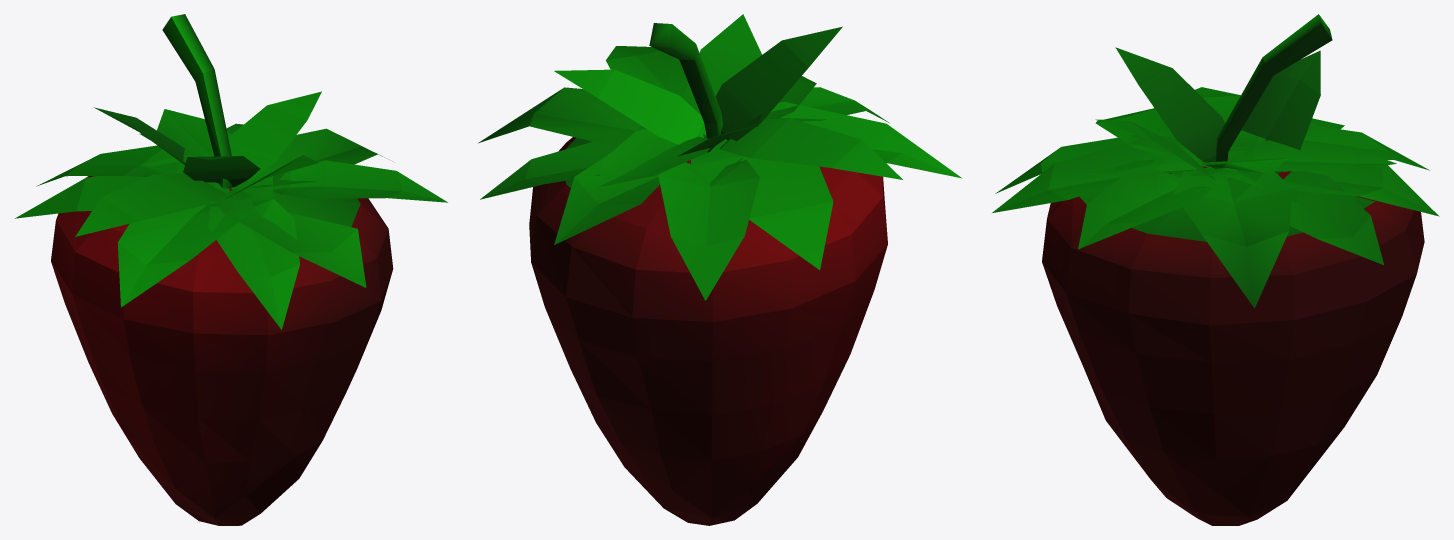
Rendered from Strawberry.fbx.
3 views of the same model, side by side, from view 1: azimuth 30°, elevation 25°; view 2: azimuth 150°, elevation 25°; view 3: azimuth 270°, elevation 25° (orthographic). The views are drawn at different scales.
Visible parts, largest first — view 1: shot_20260405070138.002; view 2: shot_20260405070138.002; view 3: shot_20260405070138.002.
Part boxes in pixels (<box>): shot_20260405070138.002: <box>15,14,447,525</box>; shot_20260405070138.002: <box>478,14,961,525</box>; shot_20260405070138.002: <box>992,14,1439,525</box>.
Size of what is drawn, in the model's own units: 125 by 159 by 128.
